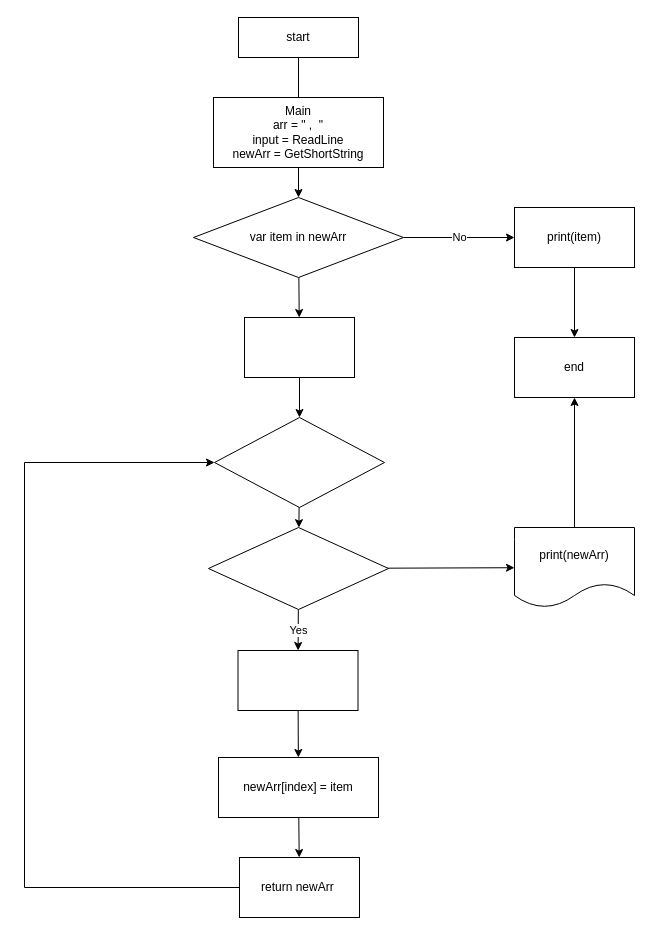
The diagram is 652 pixels wide and 935 high, and some of its shapes have lost their labels. The centre of each missing label's shape, as x and y in pixels:
"count = count + 1" belongs at point 297,680.
"GetShortString count = 0; index = 0" belongs at point 299,347.
"if item.length<=3" belongs at point 298,568.
"var item in arr" belongs at point 299,462.
